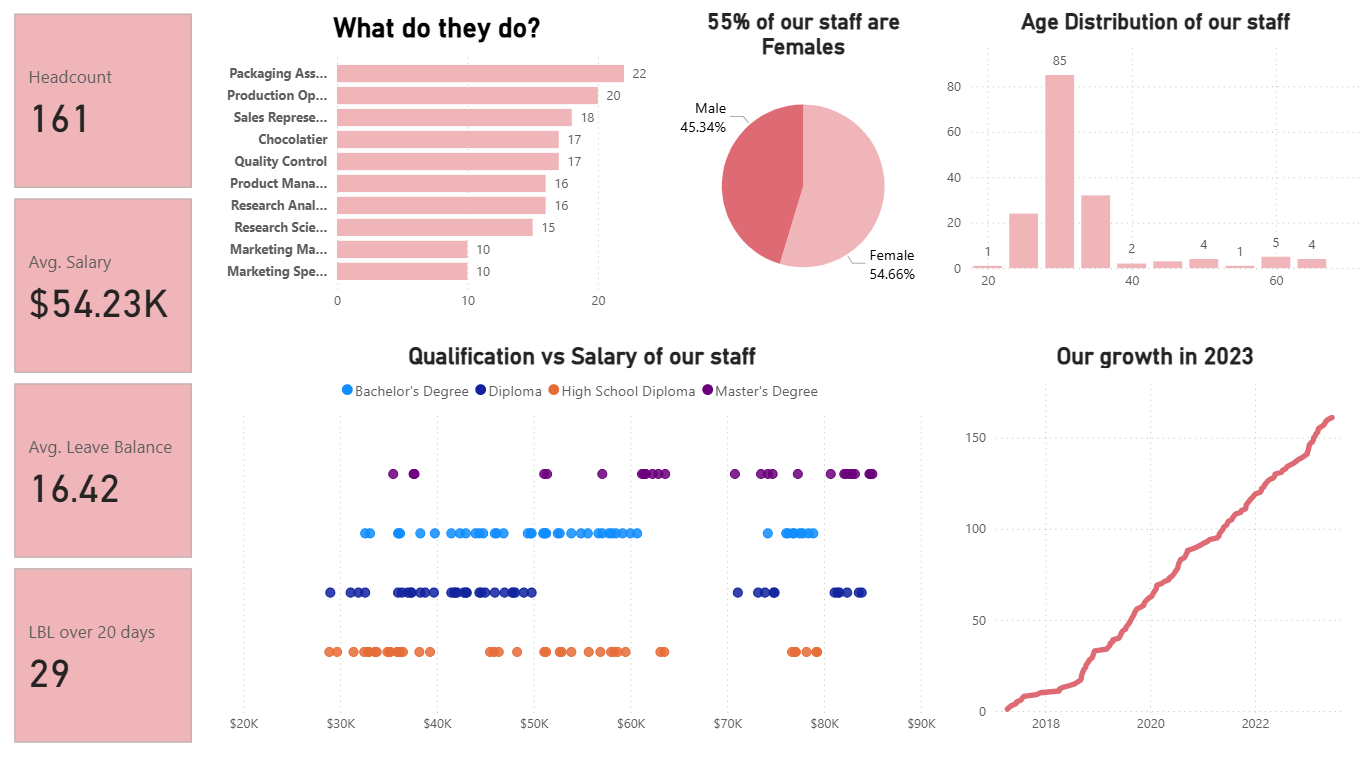

This screenshot's page, from the dashboard's own definition file:
{"tool":"powerbi","page":{"name":"Dashboard","canvas":[1280,720],"ordinal":0},"visuals":[{"type":"cardVisual","fields":{"Data":["staff.Headcount","staff.Avg. Salary","staff.Avg. Leave Balance","staff.LBL over 20 days"]},"box":[15.1,16.5,175.6,691.6],"z":0},{"type":"clusteredBarChart","title":"What do they do?","fields":{"Y":["staff.Headcount"],"Category":["staff.Job Title"]},"box":[201.7,19.2,424,286.8],"z":1},{"type":"pieChart","title":"55% of our staff are Females","fields":{"Category":["staff.Gender"],"Y":["staff.Headcount"]},"box":[625.7,16.5,256.6,284],"z":2},{"type":"columnChart","title":"Age Distribution of our staff","fields":{"Y":["staff.Headcount"],"Category":["staff.Age (bins)"]},"box":[882.3,16.5,397.9,271.7],"z":3},{"type":"scatterChart","title":"Qualification vs Salary of our staff","fields":{"X":["staff.Salary"],"Y":["qual.Qualification ID"],"Series":["qual.Qualification"]},"box":[214.1,326.6,668.3,373.2],"z":4},{"type":"lineChart","title":"Our growth in 2023","fields":{"Y":["staff.Cumulative Headcount"],"Category":["staff.Date of Join"]},"box":[898.8,326.6,365,373.2],"z":5}]}

Visuals, with their boxes in screenshot pixels (x1, y1, x2, y2), scaled from the page's 1280x720 canvas onto the 1362x761 screenshot:
cardVisual - staff.Headcount x staff.Avg. Salary: 16/17/203/748
"What do they do?" clusteredBarChart: 215/20/666/323
"55% of our staff are Females" pieChart: 666/17/939/318
"Age Distribution of our staff" columnChart: 939/17/1361/305
"Qualification vs Salary of our staff" scatterChart: 228/345/939/740
"Our growth in 2023" lineChart: 956/345/1345/740
